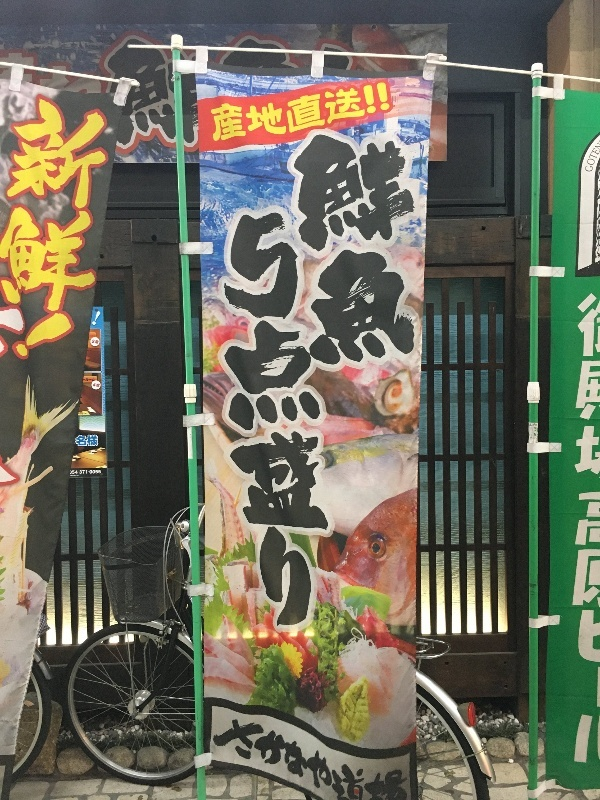text: (577, 288, 592, 770), (225, 210, 240, 639), (241, 210, 256, 639), (257, 210, 272, 639), (273, 210, 288, 639), (289, 210, 304, 639), (305, 210, 320, 639), (321, 210, 336, 639), (212, 210, 224, 639), (1, 91, 16, 378), (17, 91, 32, 378), (33, 91, 48, 378), (49, 91, 64, 378), (65, 91, 80, 378), (81, 91, 96, 378), (97, 91, 112, 378), (113, 91, 128, 378), (289, 127, 304, 372), (305, 127, 320, 372), (321, 127, 336, 372), (337, 127, 352, 372), (353, 127, 368, 372), (369, 127, 384, 372), (385, 127, 400, 372), (401, 127, 416, 372), (417, 127, 432, 372), (433, 127, 448, 372), (593, 288, 599, 770), (337, 210, 342, 639), (113, 25, 128, 153), (129, 25, 144, 153), (145, 25, 160, 153), (161, 25, 176, 153), (177, 25, 192, 153), (193, 25, 208, 153), (98, 25, 112, 153), (129, 91, 134, 378), (225, 704, 240, 794), (241, 704, 256, 794), (257, 704, 272, 794), (273, 704, 288, 794), (289, 704, 304, 794), (305, 704, 320, 794), (321, 704, 336, 794), (337, 704, 352, 794), (353, 704, 368, 794), (369, 704, 384, 794), (385, 704, 400, 794), (211, 704, 224, 794), (209, 74, 224, 150), (225, 74, 240, 150), (241, 74, 256, 150), (257, 74, 272, 150), (273, 74, 288, 150), (289, 74, 304, 150), (305, 74, 320, 150), (321, 74, 336, 150), (337, 74, 352, 150), (353, 74, 368, 150), (369, 74, 384, 150), (1, 45, 16, 101), (17, 45, 32, 101), (33, 45, 48, 101), (49, 45, 64, 101), (65, 45, 80, 101), (81, 45, 96, 101), (401, 704, 410, 794), (225, 24, 240, 67), (241, 24, 256, 67), (257, 24, 272, 67), (273, 24, 288, 67), (289, 24, 304, 67), (385, 74, 393, 150), (321, 39, 336, 76), (337, 39, 352, 76), (215, 24, 224, 67), (209, 25, 212, 153), (97, 45, 103, 101), (584, 146, 592, 177), (81, 432, 96, 448), (353, 39, 359, 76), (593, 146, 600, 177), (81, 468, 96, 478), (317, 39, 320, 76), (91, 309, 96, 328), (97, 309, 102, 328), (71, 468, 80, 478), (85, 376, 96, 383), (76, 432, 80, 448), (595, 140, 600, 152), (97, 468, 102, 478), (305, 24, 306, 67), (97, 432, 99, 448), (92, 339, 96, 346), (97, 382, 101, 389), (93, 382, 96, 389), (97, 339, 99, 346)
